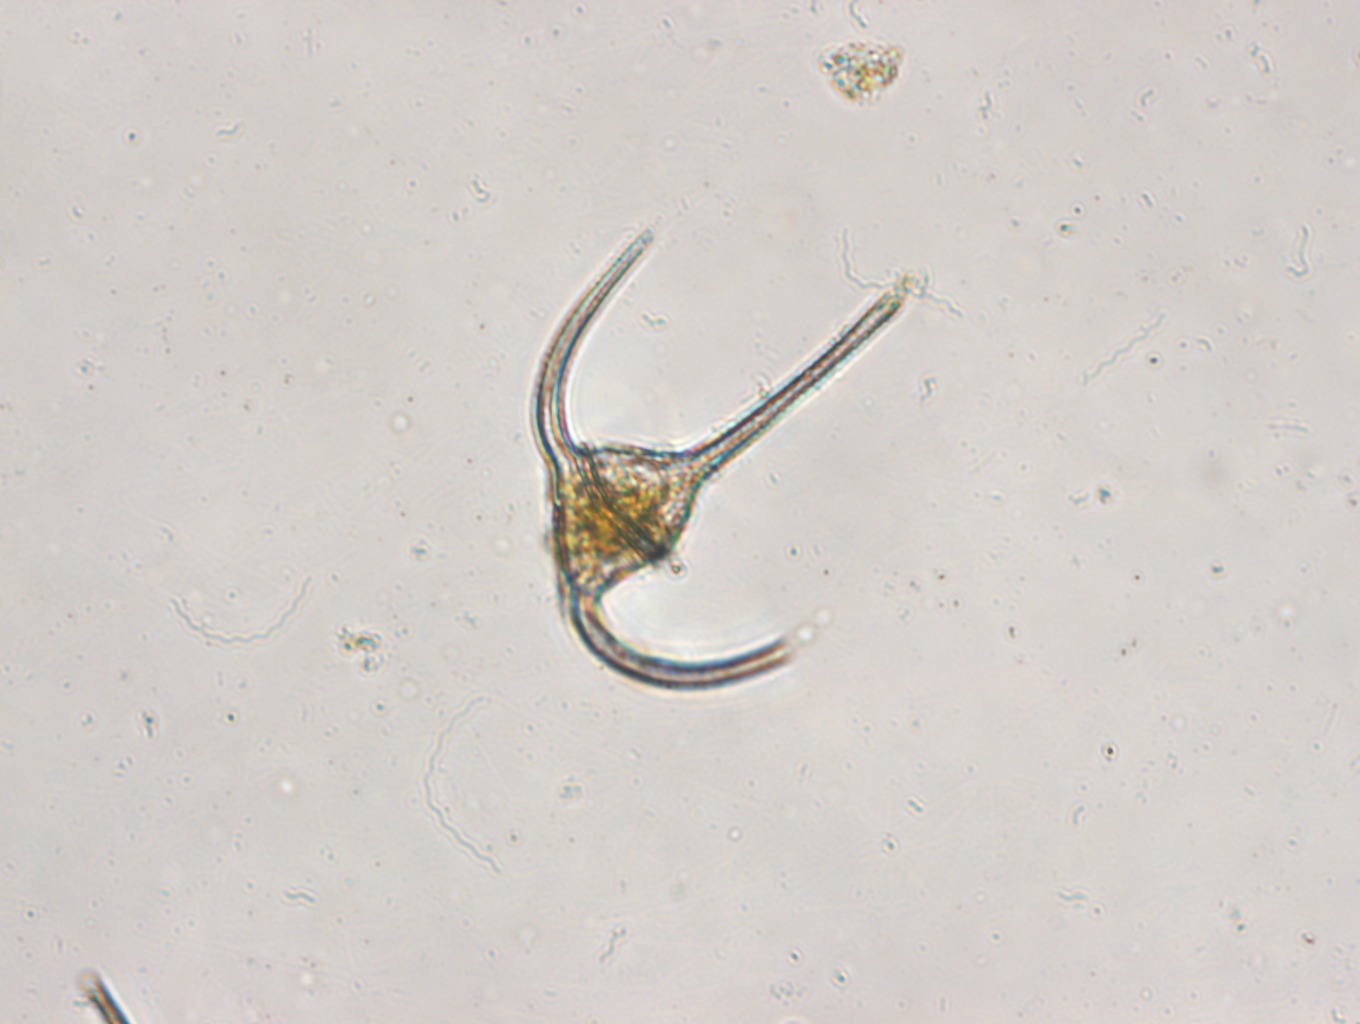ceratium trichoceros: (526, 207, 913, 701)
